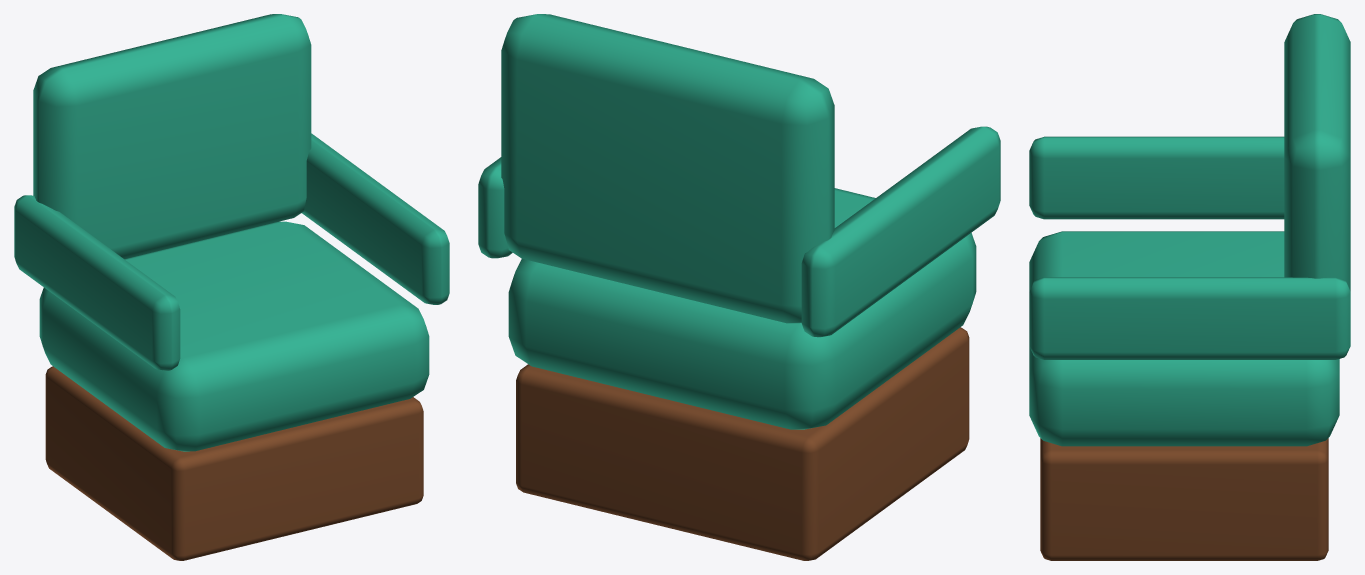
The model's file is armchair.glb.
The picture shows the model from 3 angles, left to right: view 1: azimuth 30°, elevation 25°; view 2: azimuth 150°, elevation 25°; view 3: azimuth 270°, elevation 25°; orthographic projection. The views are drawn at different scales.
Parts seen in each view (by area): view 1: Seat, Back, Legs, ArmRest, ArmRest.001; view 2: Back, Legs, Seat, ArmRest, ArmRest.001; view 3: Seat, Legs, ArmRest.001, ArmRest, Back.
Part boxes in pixels (box(x1,y1,x2,y2)): Seat: box(39, 221, 429, 451); Back: box(33, 14, 311, 259); Legs: box(45, 366, 423, 560); ArmRest: box(14, 195, 180, 370); ArmRest.001: box(302, 133, 449, 304); Back: box(501, 14, 834, 323); Legs: box(516, 327, 969, 560); Seat: box(508, 188, 976, 429); ArmRest: box(801, 126, 1000, 337); ArmRest.001: box(478, 157, 512, 258); Seat: box(1029, 231, 1339, 446); Legs: box(1040, 438, 1328, 560); ArmRest.001: box(1029, 277, 1350, 359); ArmRest: box(1029, 136, 1284, 219); Back: box(1284, 14, 1350, 290).
Bounding box in the file's own units: 0.66 × 0.85 × 0.58.
